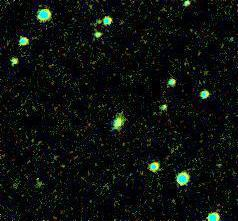star: (83, 4, 113, 34)
